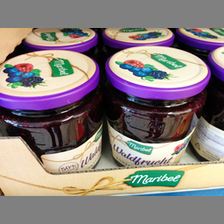jam: (105, 45, 212, 167), (1, 50, 104, 173)
